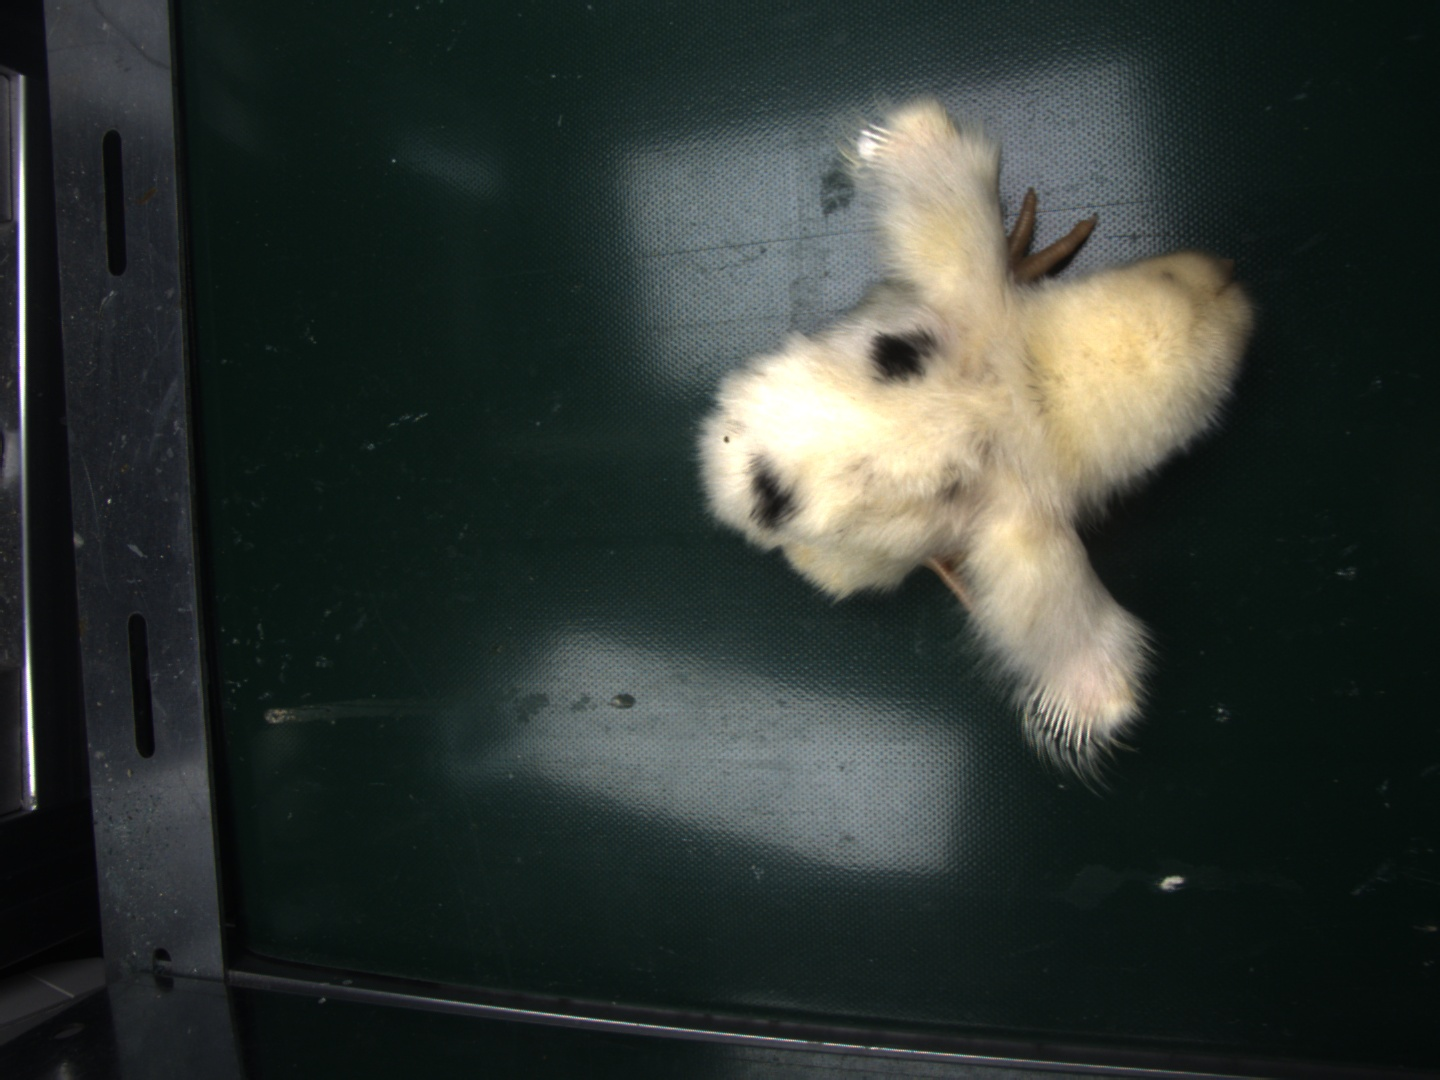male: (1026, 684, 1106, 746)
